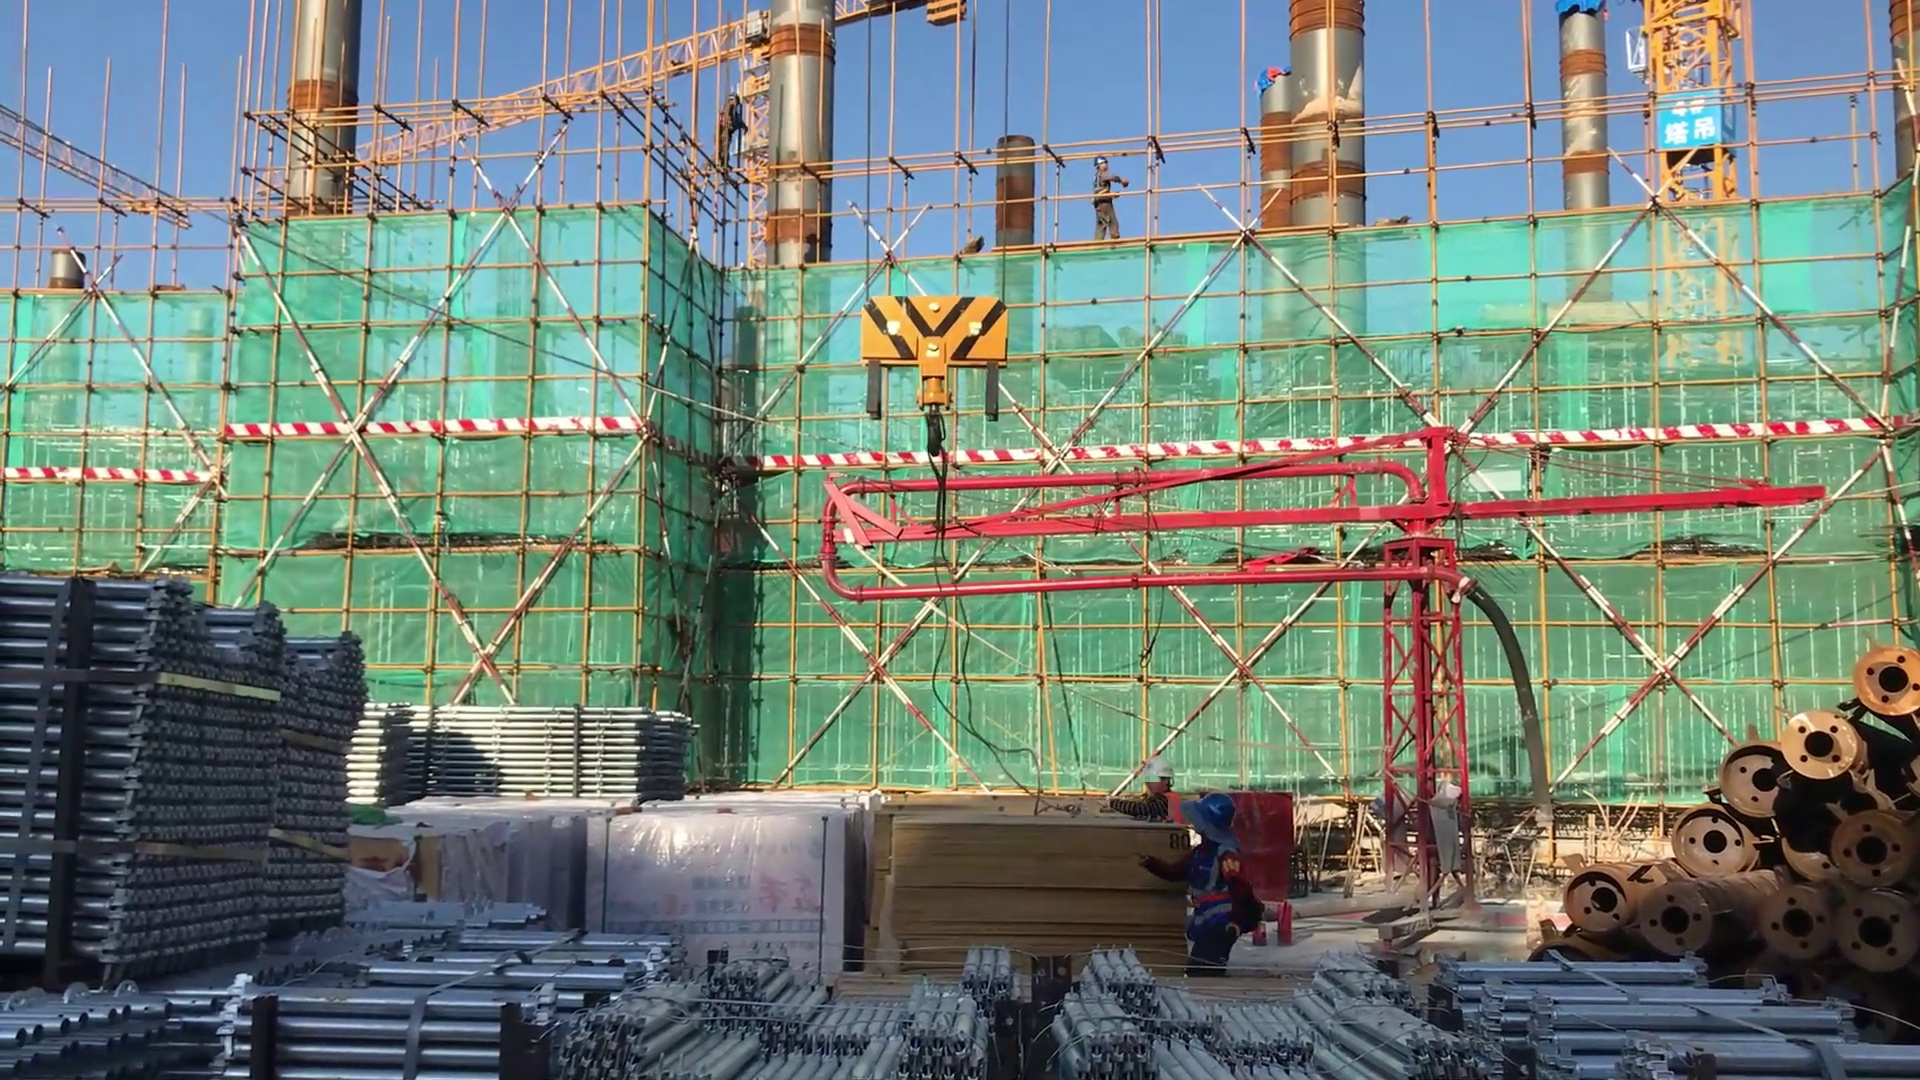board: (870, 808, 1179, 955)
helmet: (1191, 793, 1246, 834), (1131, 759, 1181, 798), (1091, 155, 1112, 174)
hook: (847, 287, 1043, 513)
person: (1137, 790, 1264, 998), (1073, 757, 1189, 830), (1086, 150, 1130, 241)
scaffold: (1, 563, 358, 973), (1, 885, 515, 1080), (531, 930, 1022, 1080), (1444, 951, 1920, 1080), (1058, 941, 1481, 1080), (337, 689, 675, 809)
slogan: (1665, 89, 1725, 156)
vest: (1186, 839, 1248, 948), (1144, 792, 1189, 824), (1090, 169, 1115, 206)
